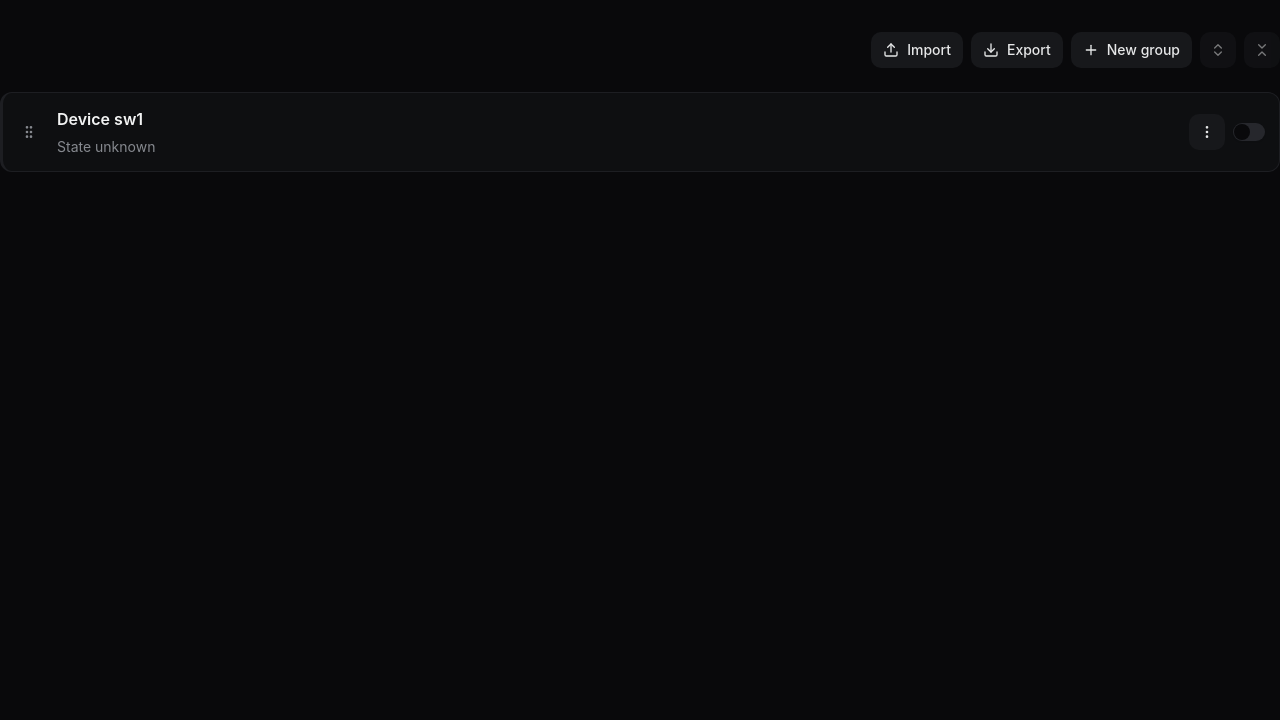
Scenario: ControlsPanel row actions menu › cancelling the confirm dialog does not delete the device
Click the button named "More actions for Device sw1" at (1207, 132), box [1189, 114, 1225, 150]
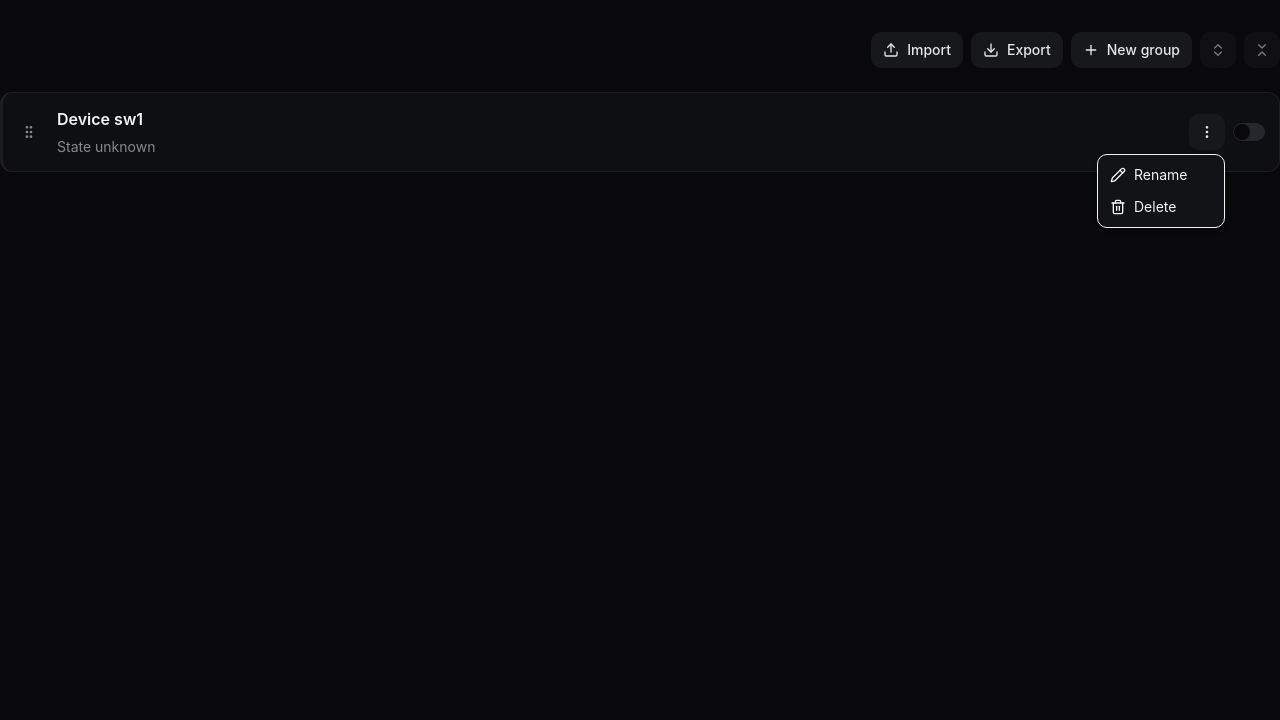
Click the menu item "Delete" at (1143, 206), box [1110, 198, 1176, 215]
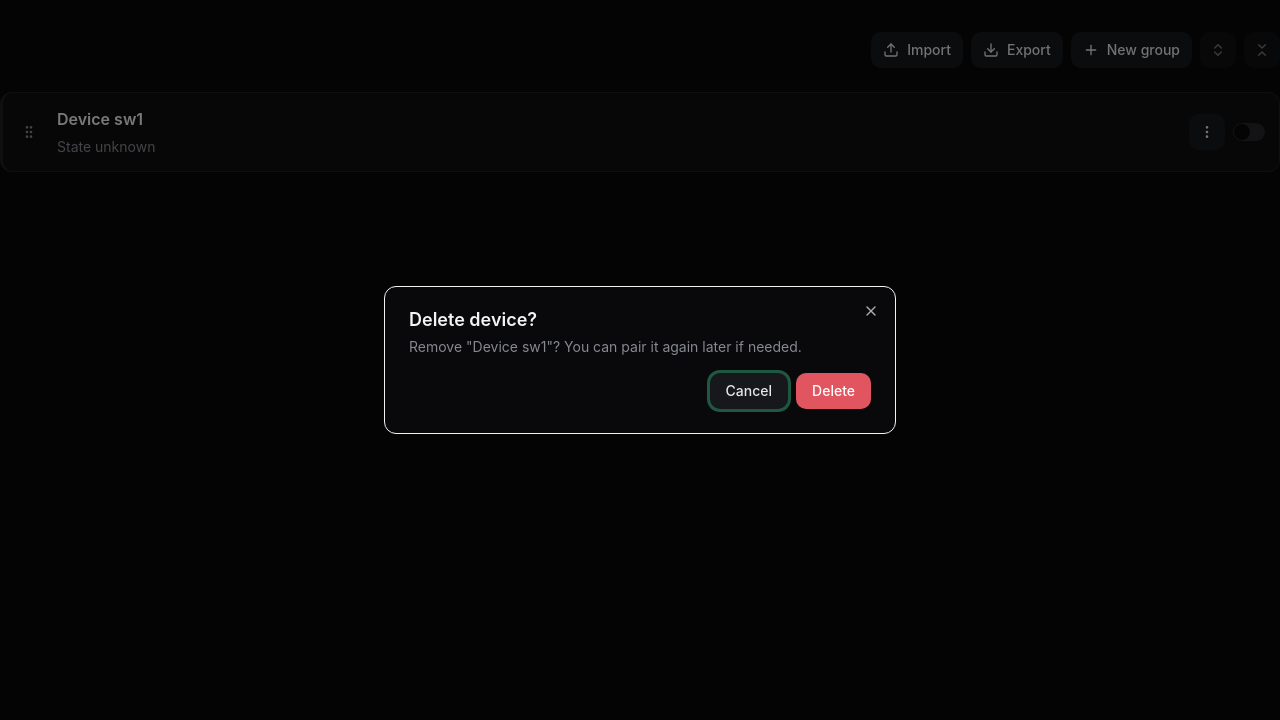
Click the button "Cancel" at (749, 391), box [710, 373, 788, 409]
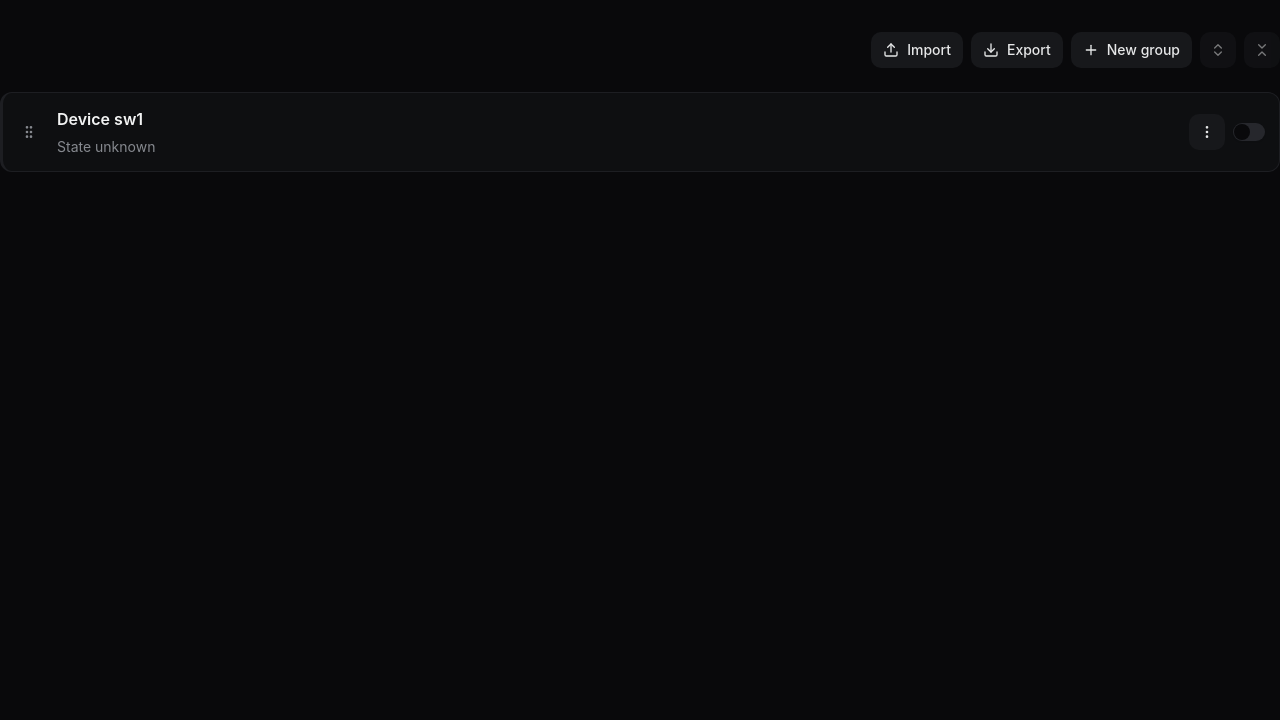
Expected: the heading "Delete device?" is gone
